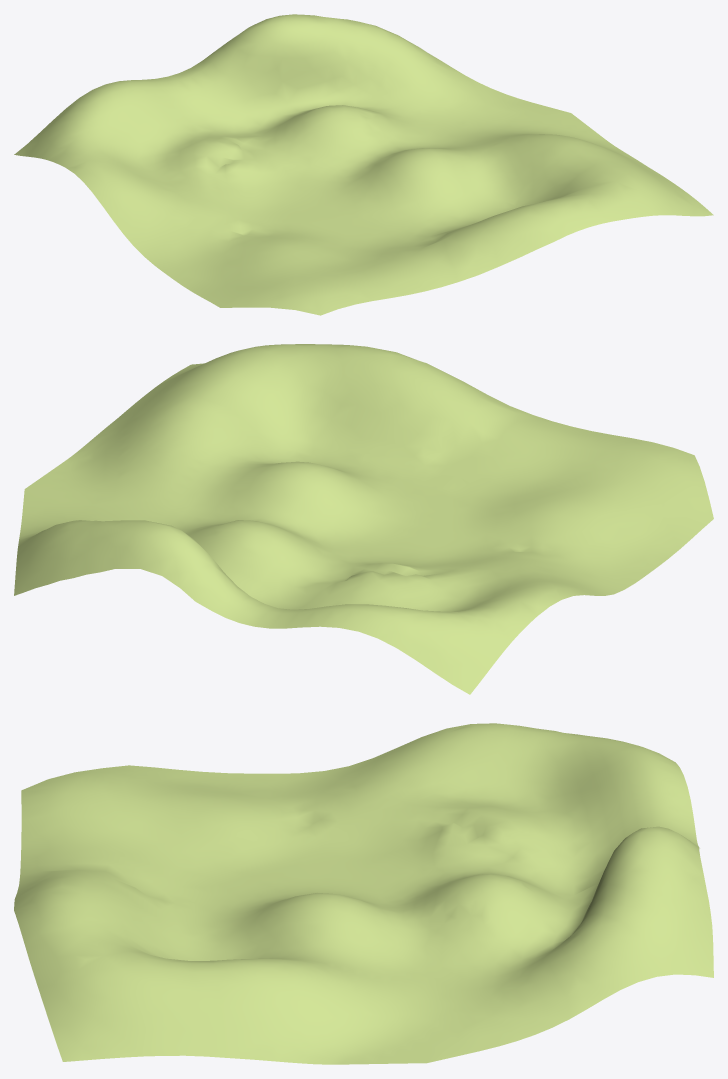
The model's file is basic_surface.glb.
The picture shows the model from 3 angles, top to bottom: view 1: azimuth 30°, elevation 25°; view 2: azimuth 150°, elevation 25°; view 3: azimuth 270°, elevation 25°; orthographic projection. The views are drawn at different scales.
Parts seen in each view (by area): view 1: Ground; view 2: Ground; view 3: Ground.
Boxes of the visible parts, left/top/right/bottom form: Ground: left=14, top=14, right=713, bottom=315; Ground: left=14, top=344, right=713, bottom=694; Ground: left=14, top=723, right=713, bottom=1064.
Size of the model in its own units: 95.3 by 15.76 by 95.08.
1 material, 1 textured.
